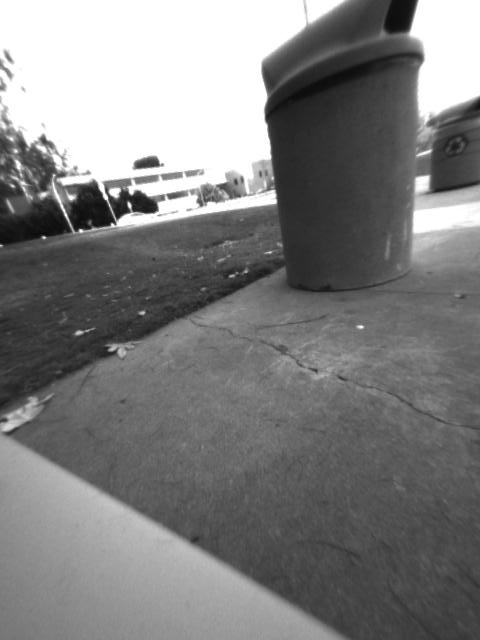trashcan: (257, 2, 425, 287), (258, 3, 425, 286)
